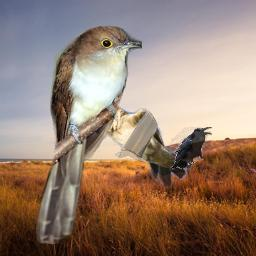Crow: (169, 127, 212, 171)
Cuckoo: (36, 24, 142, 244)
Swallow: (93, 100, 193, 188)
